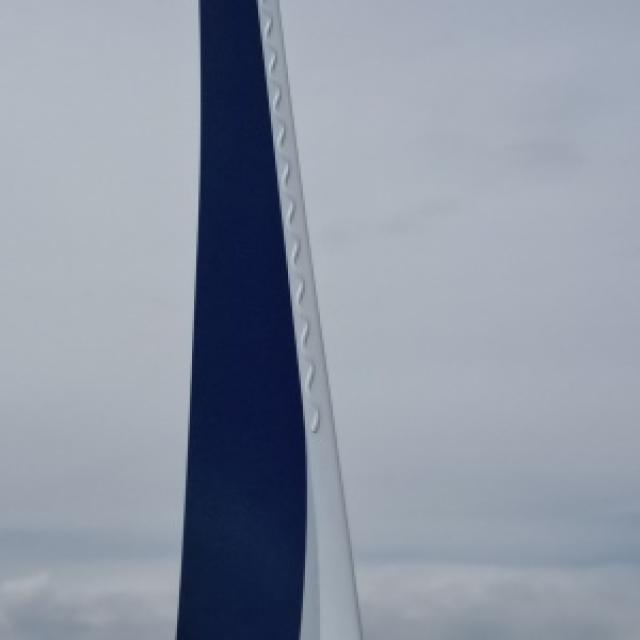healthy: (177, 0, 358, 638)
